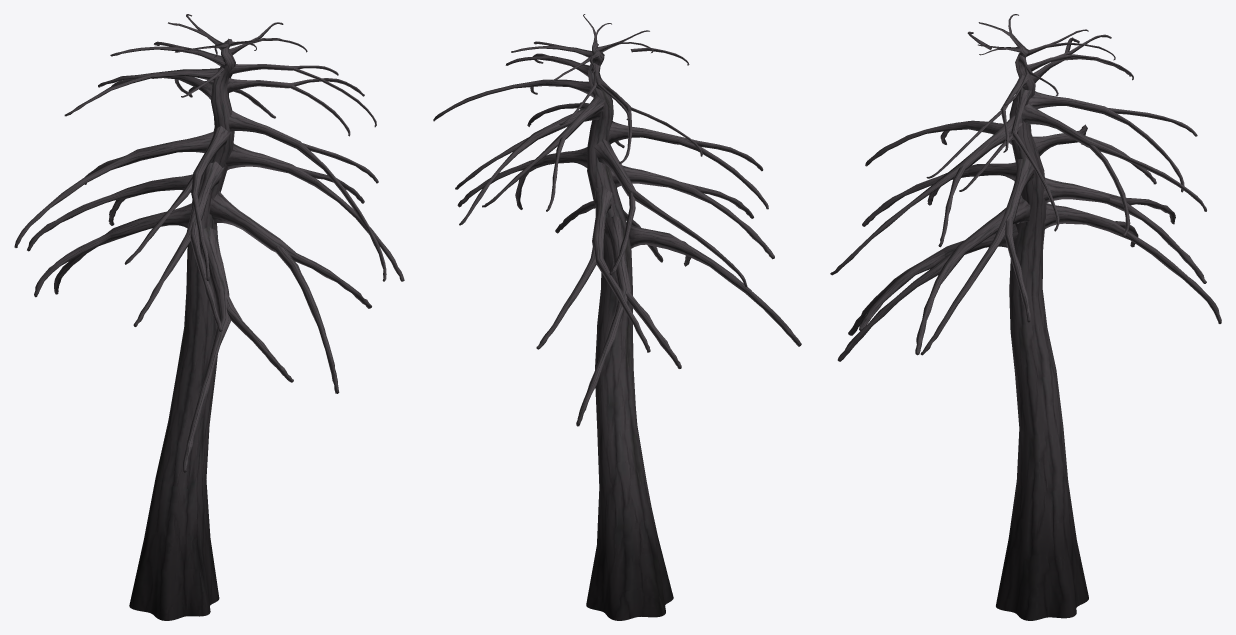
The model's file is sn_dead_tree_4.glb.
The picture shows the model from 3 angles, left to right: view 1: azimuth 30°, elevation 25°; view 2: azimuth 150°, elevation 25°; view 3: azimuth 270°, elevation 25°; orthographic projection. The views are drawn at different scales.
Parts seen in each view (by area): view 1: DeadTree_4; view 2: DeadTree_4; view 3: DeadTree_4.
Part boxes in pixels (x1=…): DeadTree_4: x1=14, y1=14, x2=404, y2=620; DeadTree_4: x1=433, y1=14, x2=801, y2=620; DeadTree_4: x1=830, y1=14, x2=1221, y2=620.
Bounding box in the file's own units: 7.96 × 12.77 × 7.73.
Materials: 1 (1 with a texture image).
